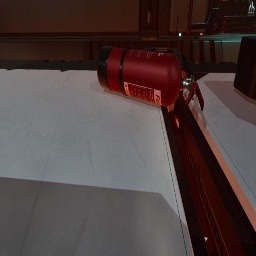FireExtinguisher ]: (97, 46, 204, 111)
